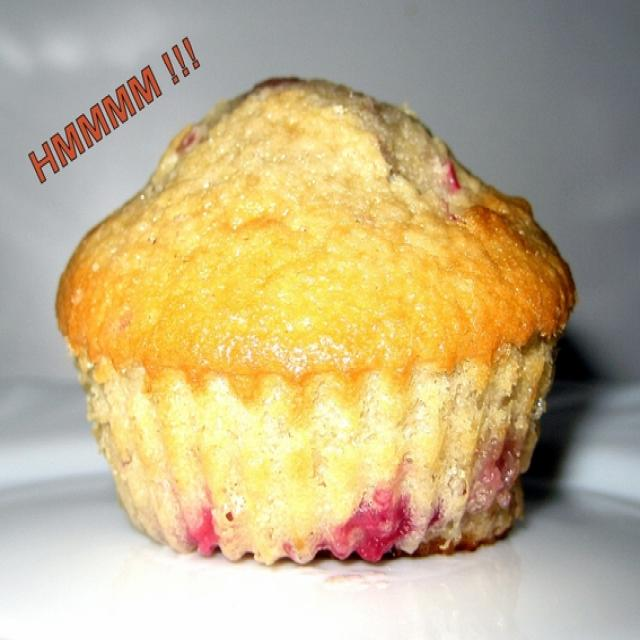炸货点心: (40, 48, 579, 573)
面包点心: (40, 48, 579, 573)
